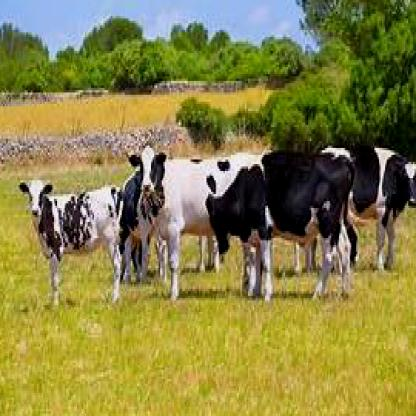cow: (130, 144, 274, 300), (265, 148, 357, 298), (18, 180, 126, 305), (348, 146, 415, 275)
